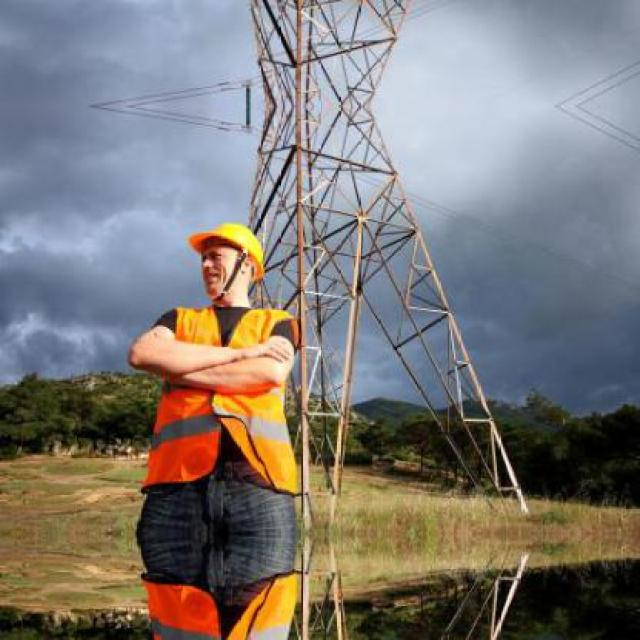helmet: (185, 215, 270, 302)
